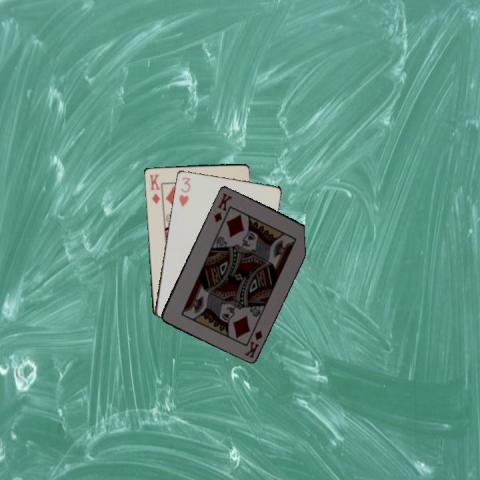3h: (176, 174, 192, 207)
Kd: (241, 327, 264, 359), (211, 190, 233, 223), (146, 172, 161, 206)
